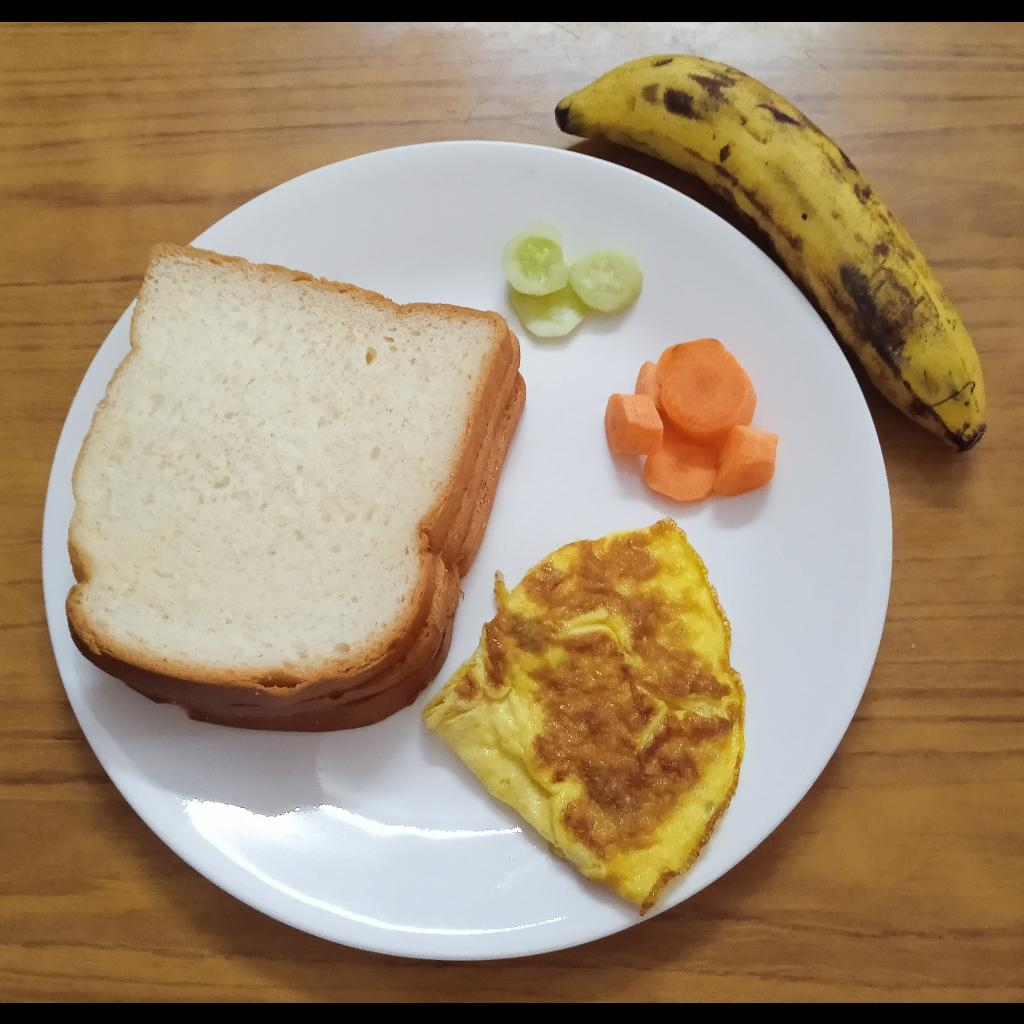banana: (558, 52, 987, 459)
bread: (65, 240, 528, 733)
carrot: (602, 336, 783, 499)
cucumber: (497, 225, 640, 339)
egg-poached: (420, 518, 748, 912)
